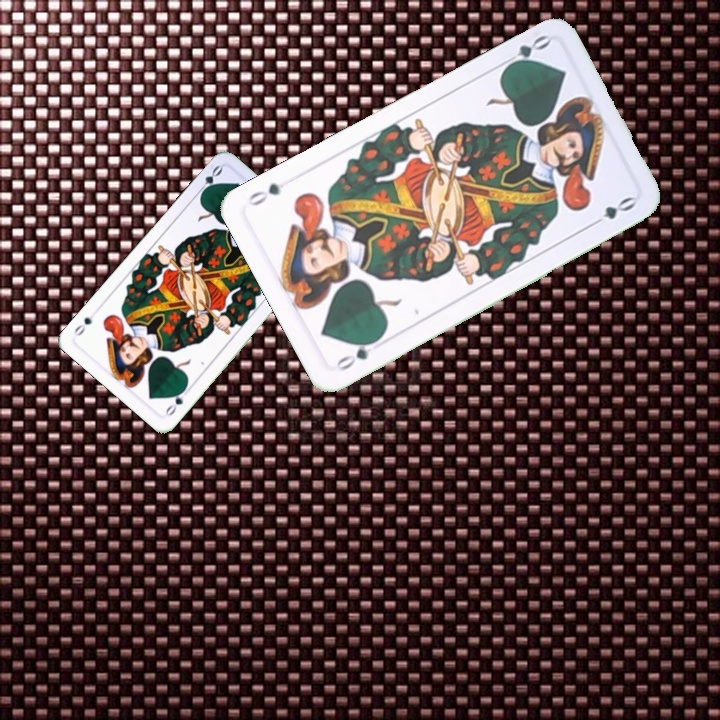GO: (497, 30, 552, 73), (331, 334, 383, 374), (193, 161, 225, 199), (161, 383, 193, 419)
